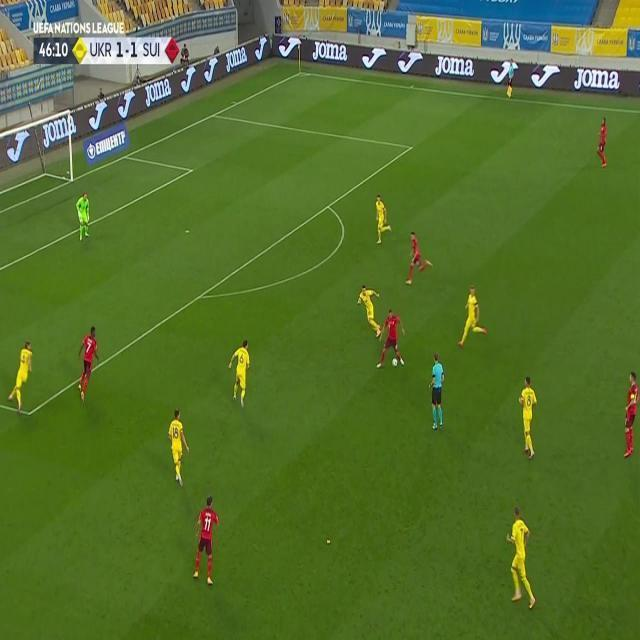ball: (391, 356, 398, 367)
goalkeeper: (75, 191, 91, 241)
player: (505, 505, 537, 612), (192, 495, 221, 586), (8, 339, 36, 413), (457, 284, 489, 348), (77, 324, 102, 402), (517, 373, 539, 457), (167, 407, 190, 485), (377, 307, 405, 369), (228, 337, 252, 405), (622, 367, 639, 458), (405, 231, 433, 285), (357, 284, 382, 337), (373, 193, 393, 243), (595, 116, 610, 168)
referee: (428, 353, 446, 431), (502, 58, 514, 100)
